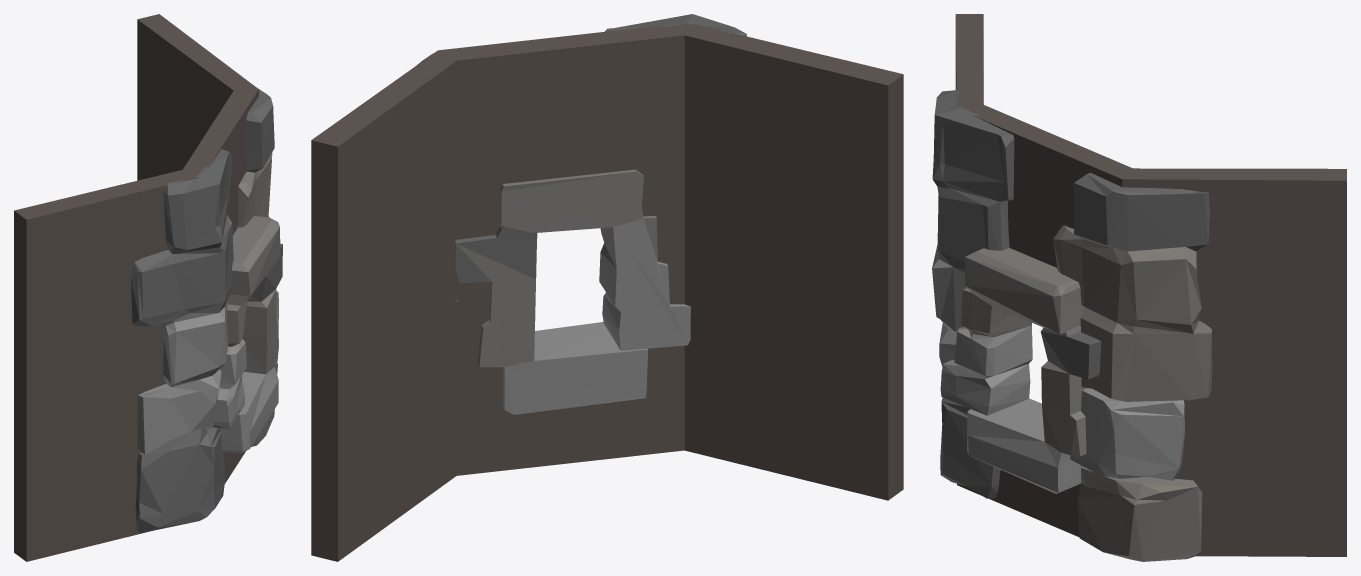
File: MCastle_OctWalls_RectWindow.FBX
3 views of the same model, side by side, from view 1: azimuth 30°, elevation 25°; view 2: azimuth 150°, elevation 25°; view 3: azimuth 270°, elevation 25° (orthographic). The views are drawn at different scales.
Visible parts, largest first — view 1: MCastle_OctWalls_RectWindow_Bricks_LOD0; view 2: MCastle_OctWalls_RectWindow_Bricks_LOD0; view 3: MCastle_OctWalls_RectWindow_Bricks_LOD0.
Part boxes in pixels (x1,y1,x2,y2): MCastle_OctWalls_RectWindow_Bricks_LOD0: (14,14,282,561); MCastle_OctWalls_RectWindow_Bricks_LOD0: (311,14,903,561); MCastle_OctWalls_RectWindow_Bricks_LOD0: (932,14,1346,561).
Size of what is drawn, in the model's own units: 4.54 by 4.47 by 4.46.
